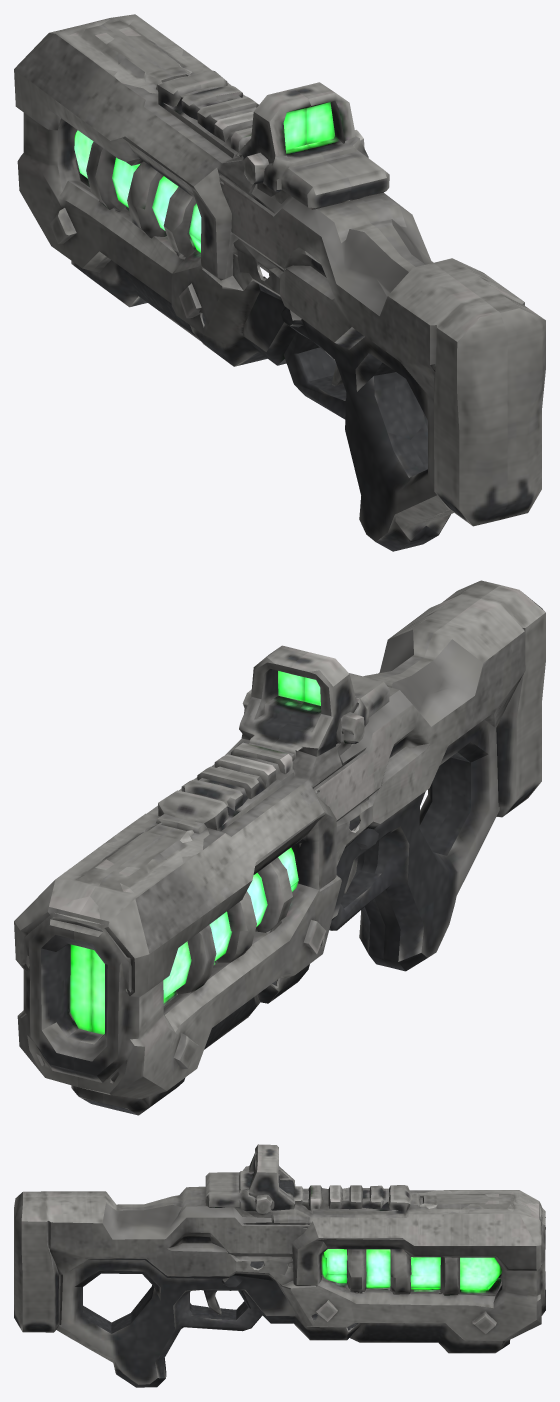
The model's file is plasma_rifle.glb.
3 renders of one model, top to bottom at view 1: azimuth 30°, elevation 25°; view 2: azimuth 150°, elevation 25°; view 3: azimuth 270°, elevation 25°, orthographic. The views are drawn at different scales.
Parts seen in each view (by area): view 1: plasma_rifle_world; view 2: plasma_rifle_world; view 3: plasma_rifle_world.
Boxes of the visible parts, x1,y1,x2,y2 form: plasma_rifle_world: (14,14,545,551); plasma_rifle_world: (14,580,545,1115); plasma_rifle_world: (14,1144,545,1387).
Bounding box in the file's own units: 0.1615 × 0.4082 × 0.8532.
1 material, 1 textured.
